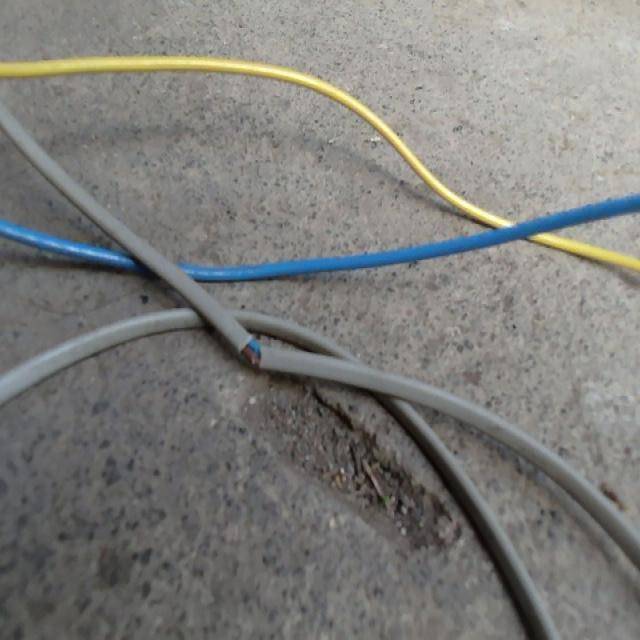-: (238, 336, 264, 365)
